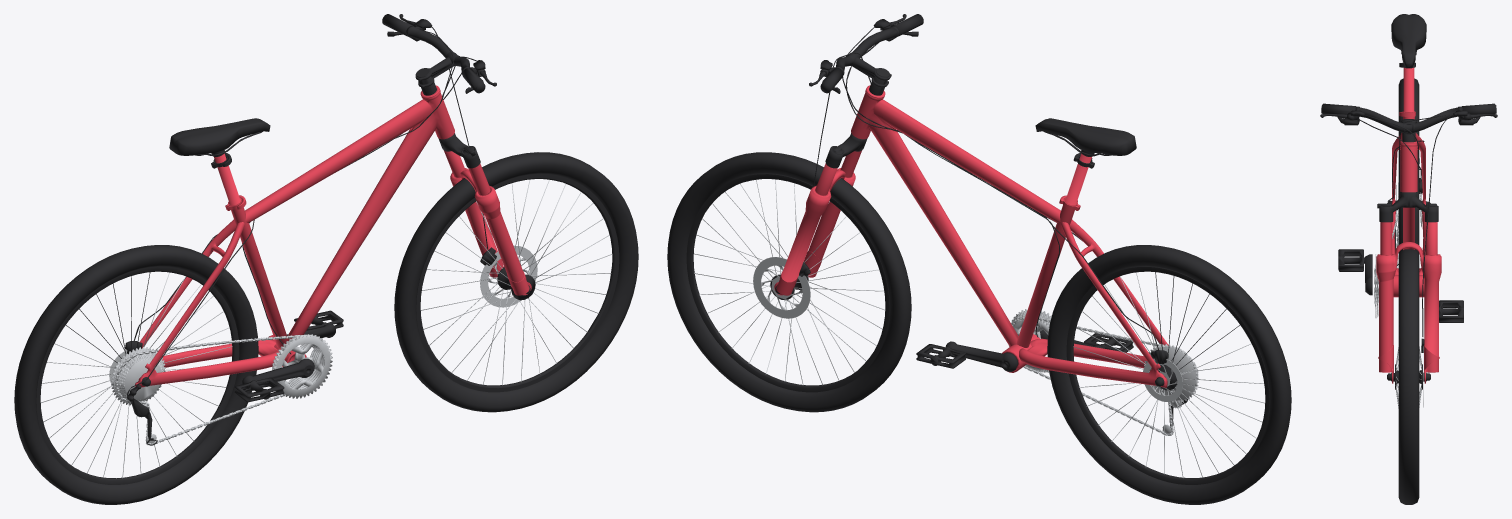
Rendered from mountain.glb.
3 renders of one model, left to right at view 1: azimuth 30°, elevation 25°; view 2: azimuth 150°, elevation 25°; view 3: azimuth 270°, elevation 25°, orthographic. The views are drawn at different scales.
Visible parts, largest first — view 1: dark, paint, metal; view 2: dark, paint, metal; view 3: dark, paint, metal.
Part boxes in pixels (x1,y1,x2,y2): dark: (14, 14, 638, 504); paint: (135, 85, 531, 387); metal: (41, 180, 612, 478); dark: (667, 14, 1291, 504); paint: (774, 85, 1168, 387); metal: (694, 179, 1264, 478); dark: (1320, 14, 1497, 504); paint: (1376, 67, 1441, 383); metal: (1374, 182, 1423, 408).
Size of the model in its own units: 1.78 by 1.05 by 0.4765.
